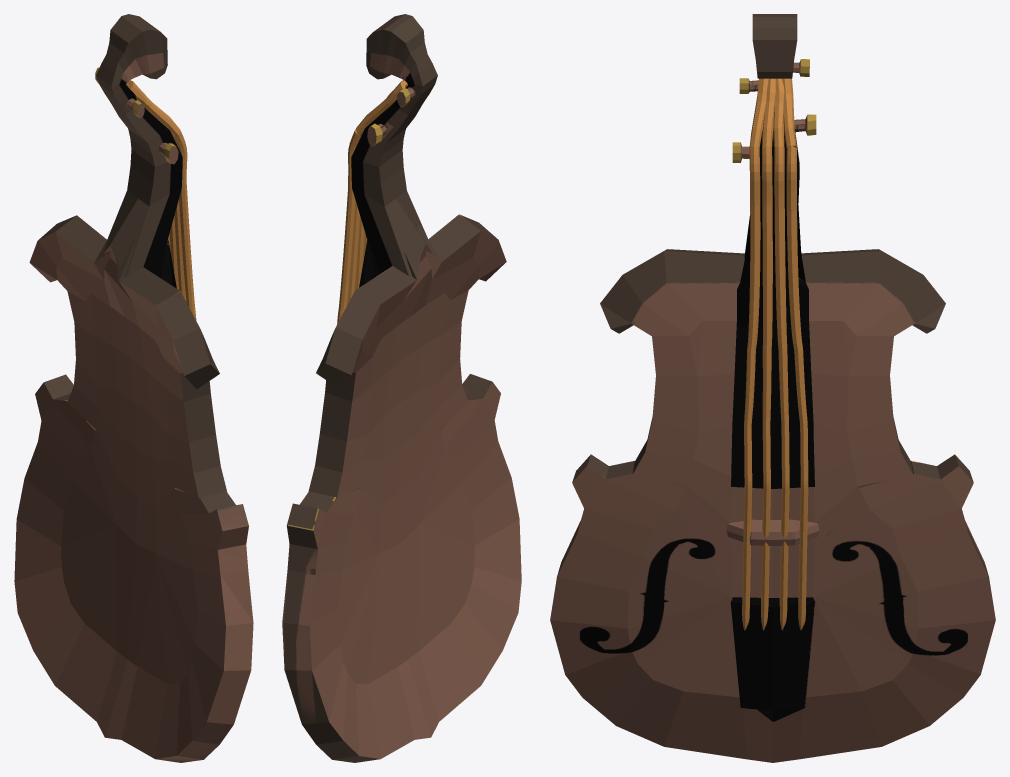
Rendered from ViolinShield.fbx.
3 views of the same model, side by side, from view 1: azimuth 30°, elevation 25°; view 2: azimuth 150°, elevation 25°; view 3: azimuth 270°, elevation 25° (orthographic). The views are drawn at different scales.
Visible parts, largest first — view 1: Violin.001; view 2: Violin.001; view 3: Violin.001.
Part boxes in pixels (<box>): Violin.001: <box>14,14,253,762</box>; Violin.001: <box>282,14,521,762</box>; Violin.001: <box>550,14,995,762</box>.
Size of the model in its own units: 2824 by 22021 by 11839.
2 materials, 1 textured.
